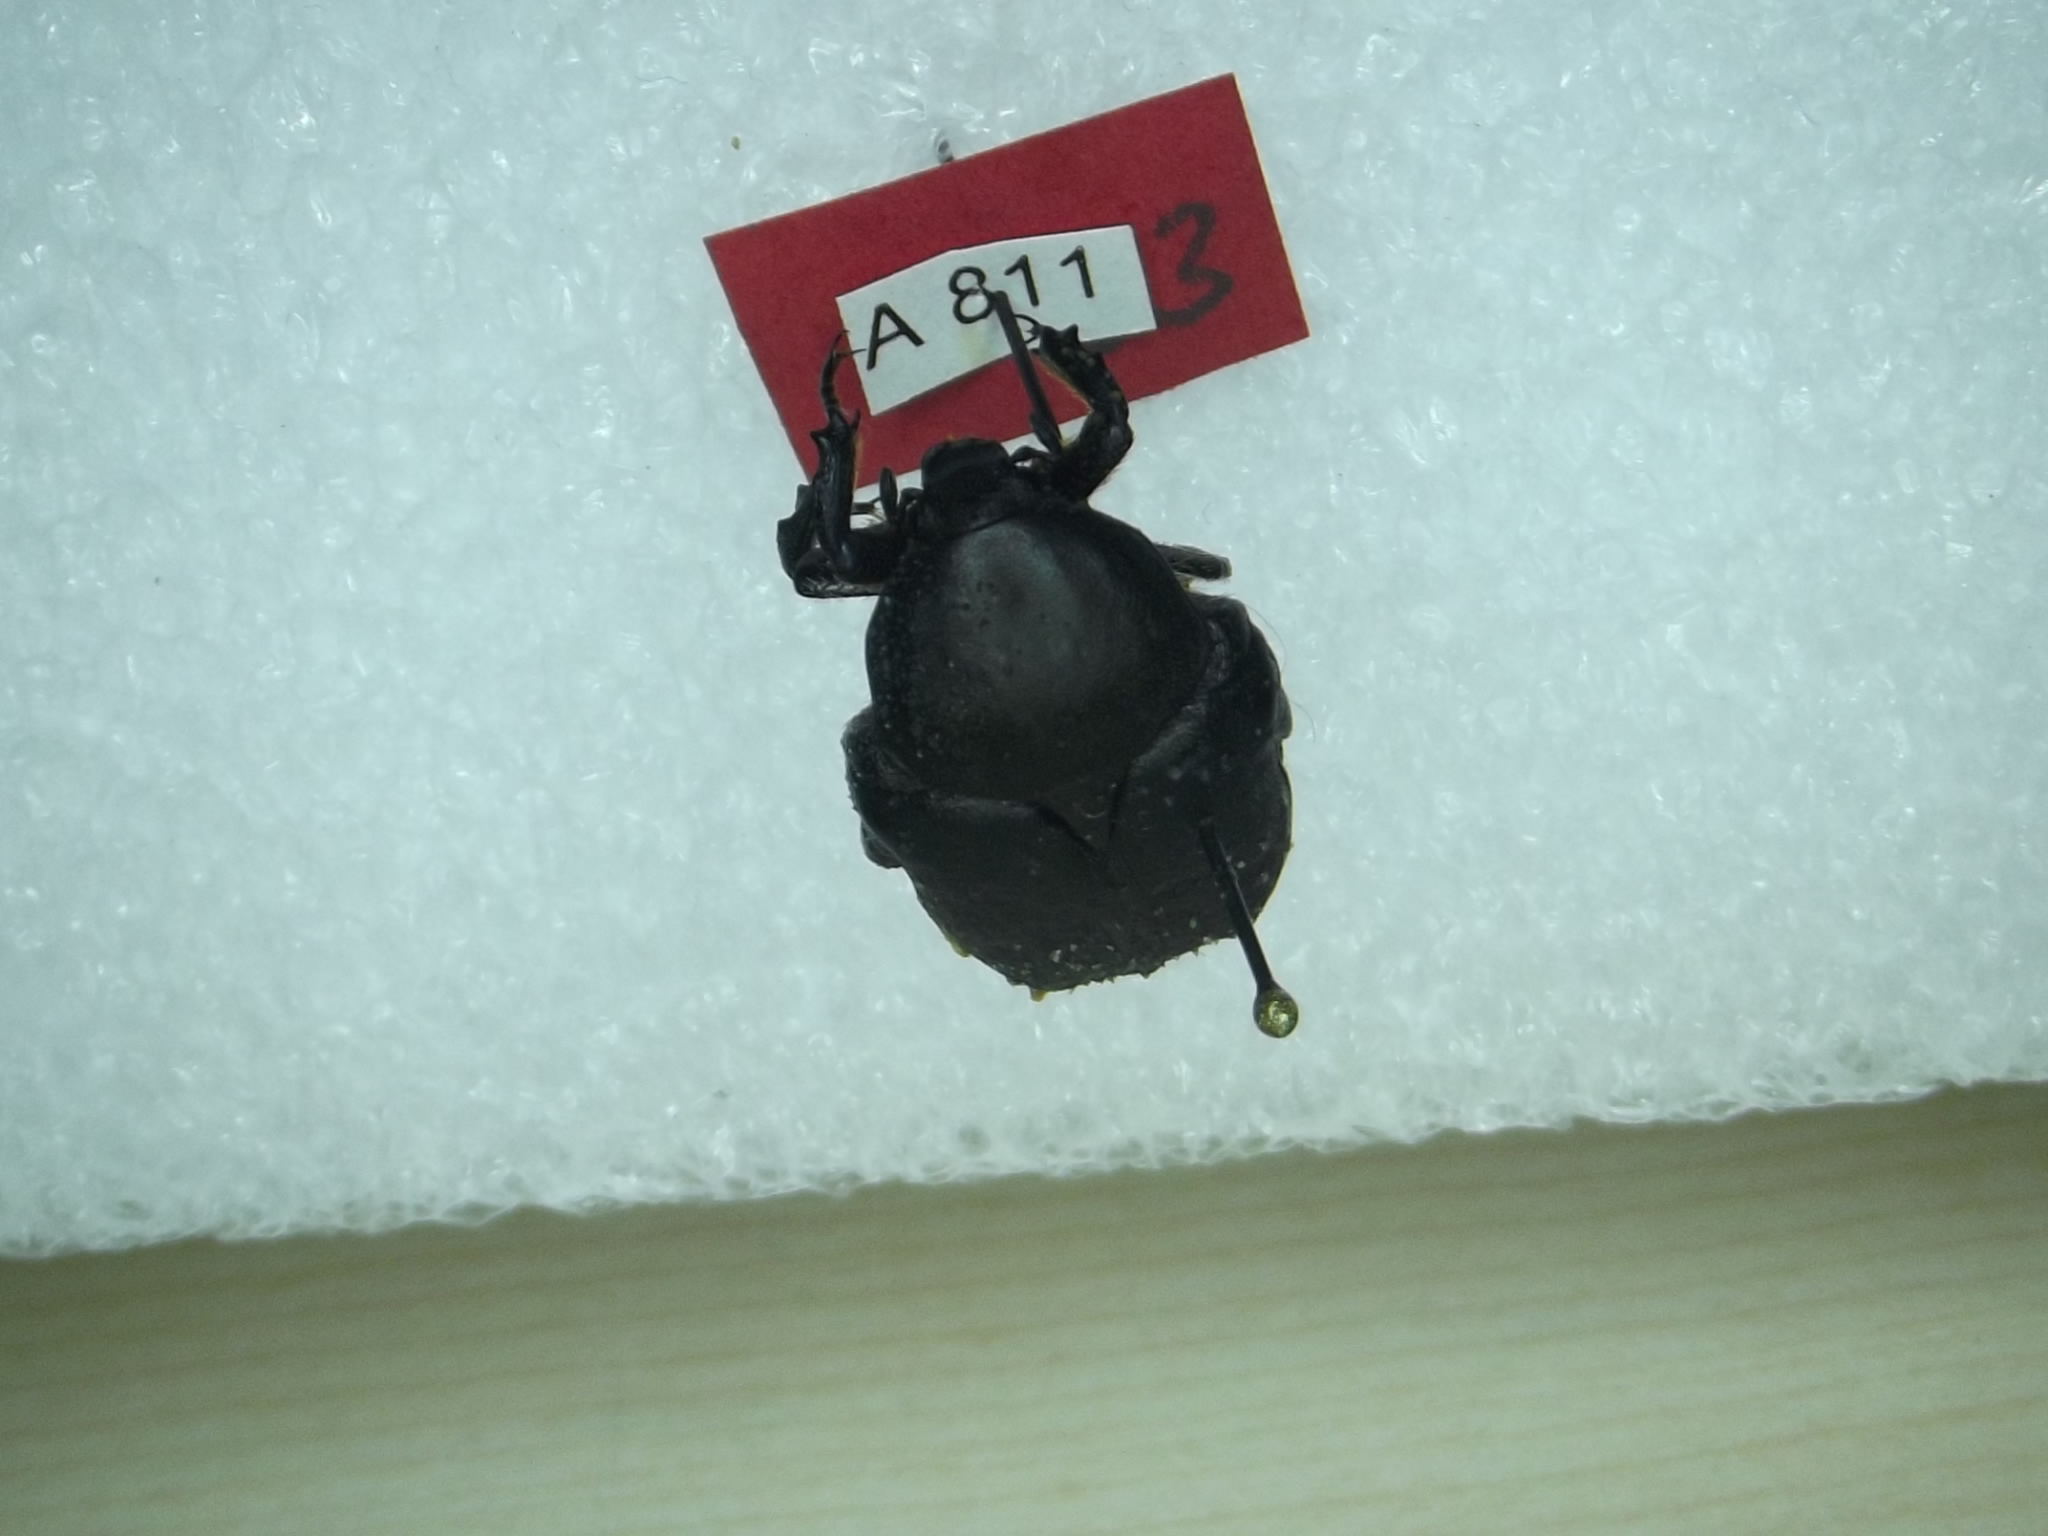Protaetia_oblonga: (760, 284, 1421, 1042)
